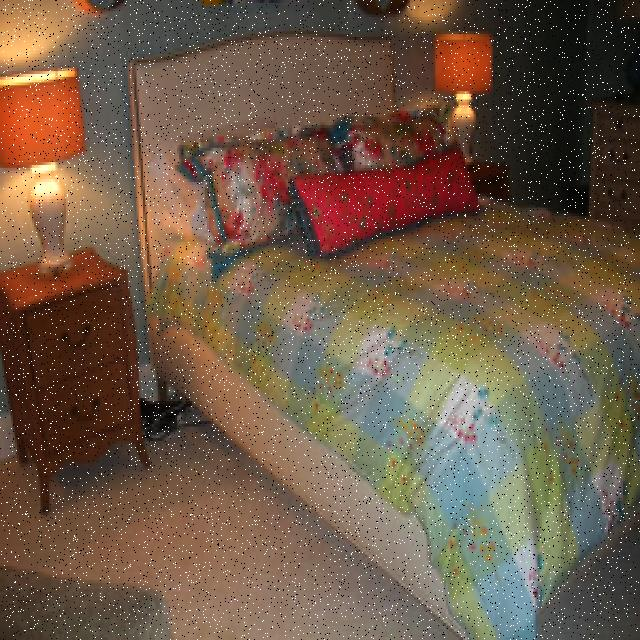bed: (124, 22, 640, 619)
